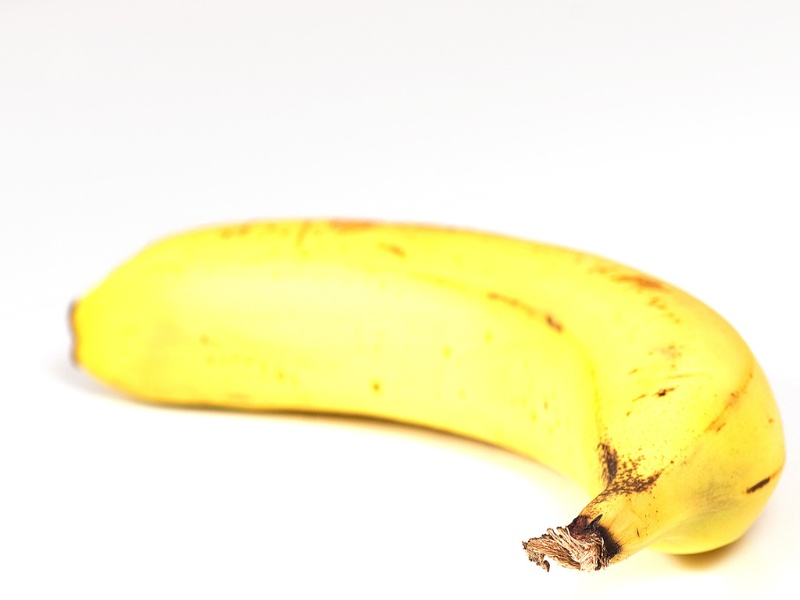banana: (62, 212, 788, 574)
